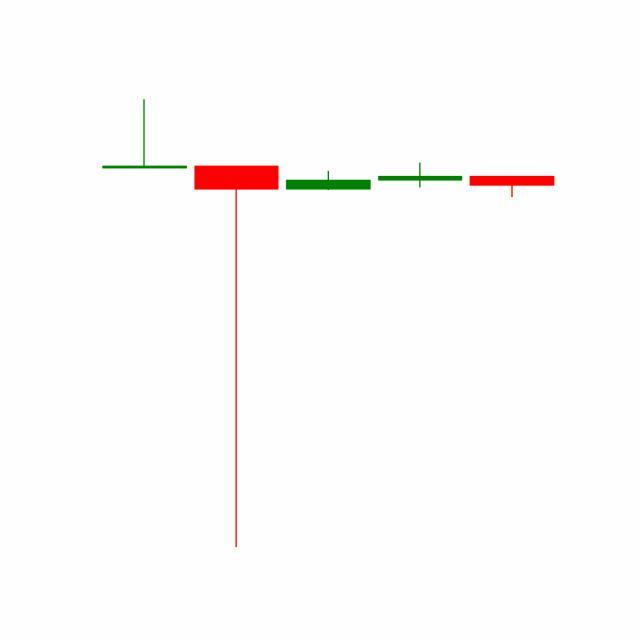Spinning Top: (374, 163, 468, 189)
